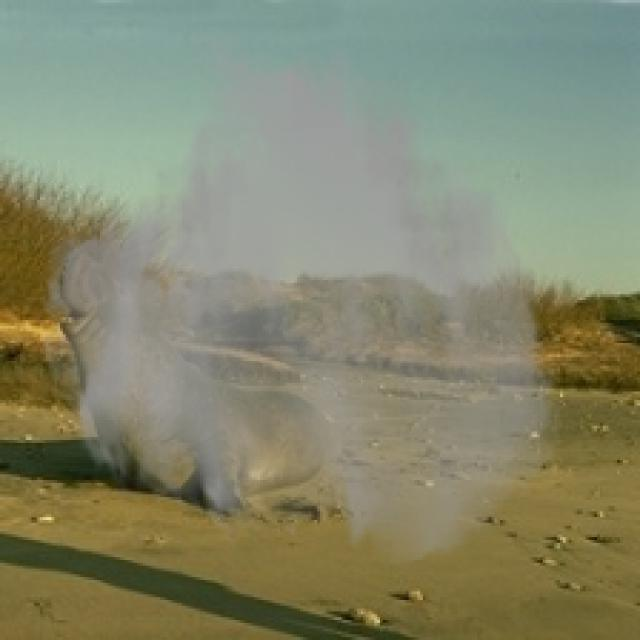Smoke: (37, 29, 566, 568)
